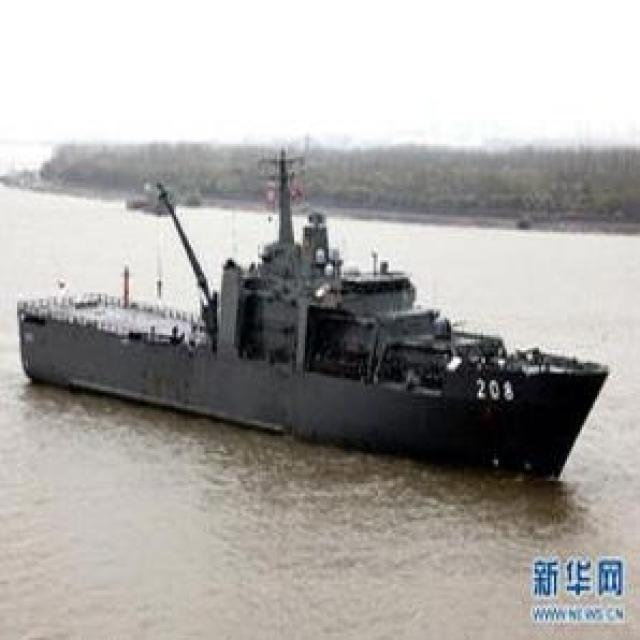navalvessels: (8, 169, 580, 476)
